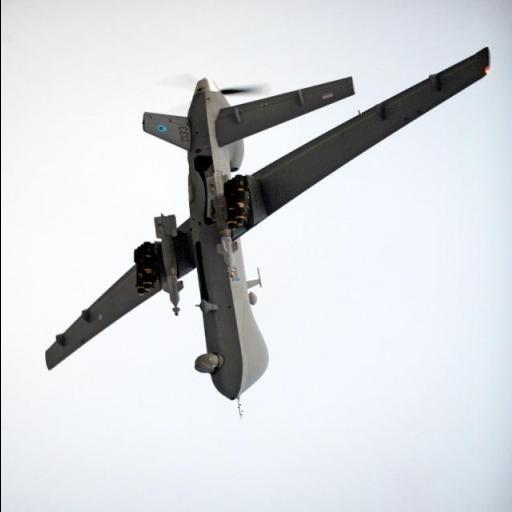uav: (30, 40, 490, 426)
